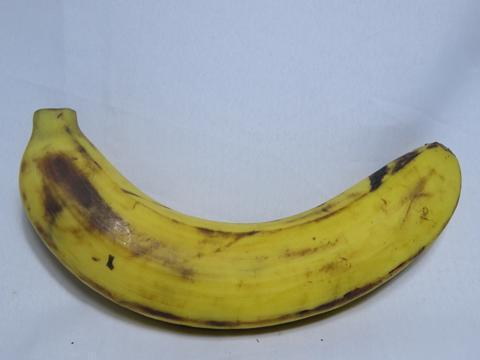overripe: (10, 92, 471, 345)
